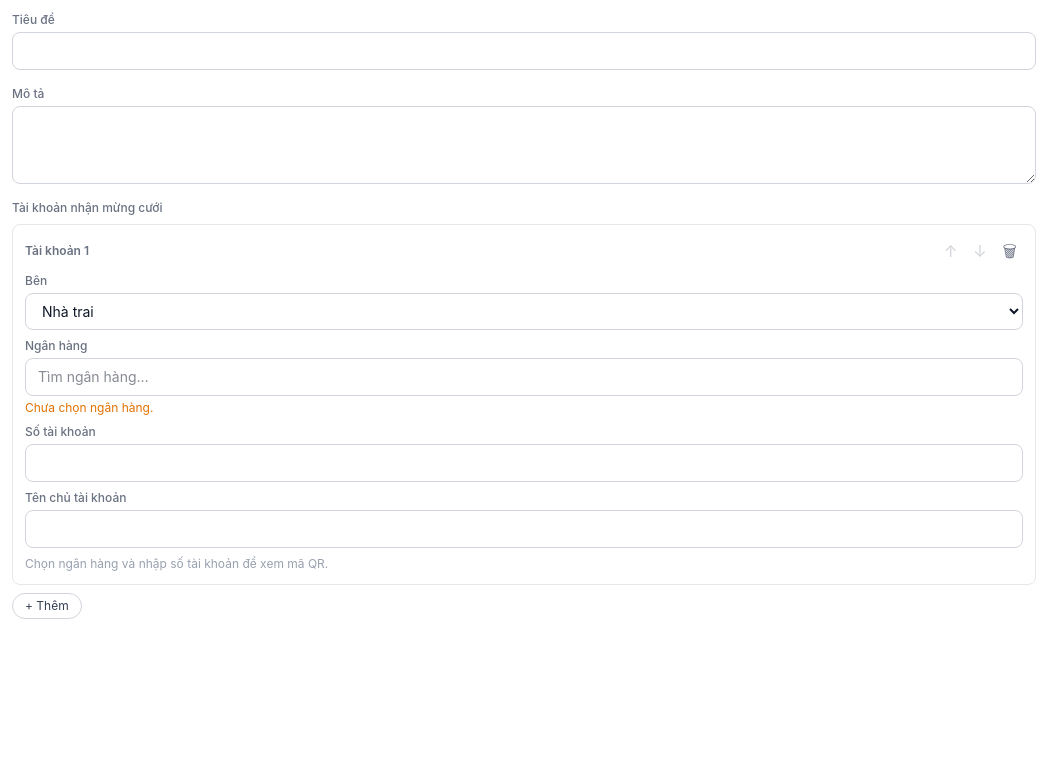
Test: GiftPanel › finds the renamed bank by the name its customers still use
This screenshot has width=1048, height=780.
Type "oceanbank" into the dropdown with placeholder "Tìm ngân hàng…" at (524, 377), box [25,358,1023,396]
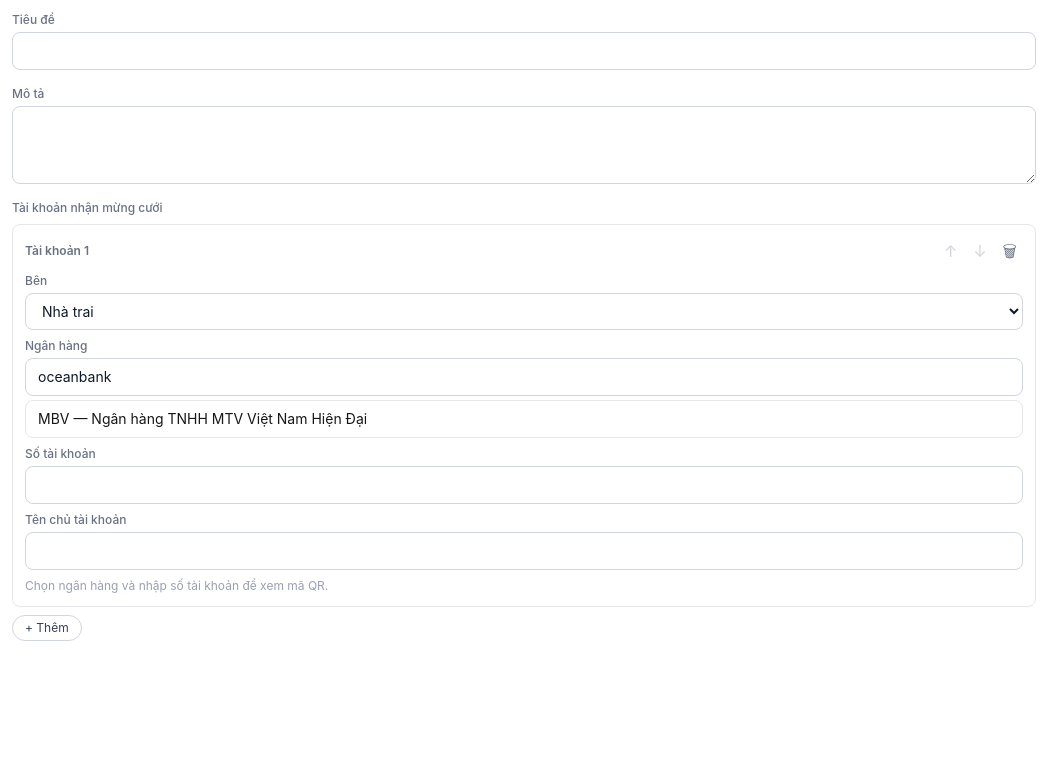
Expected: the option "MBV — Ngân hàng TNHH MTV Việt Nam Hiện Đại" is shown, [26,401,1022,437]
